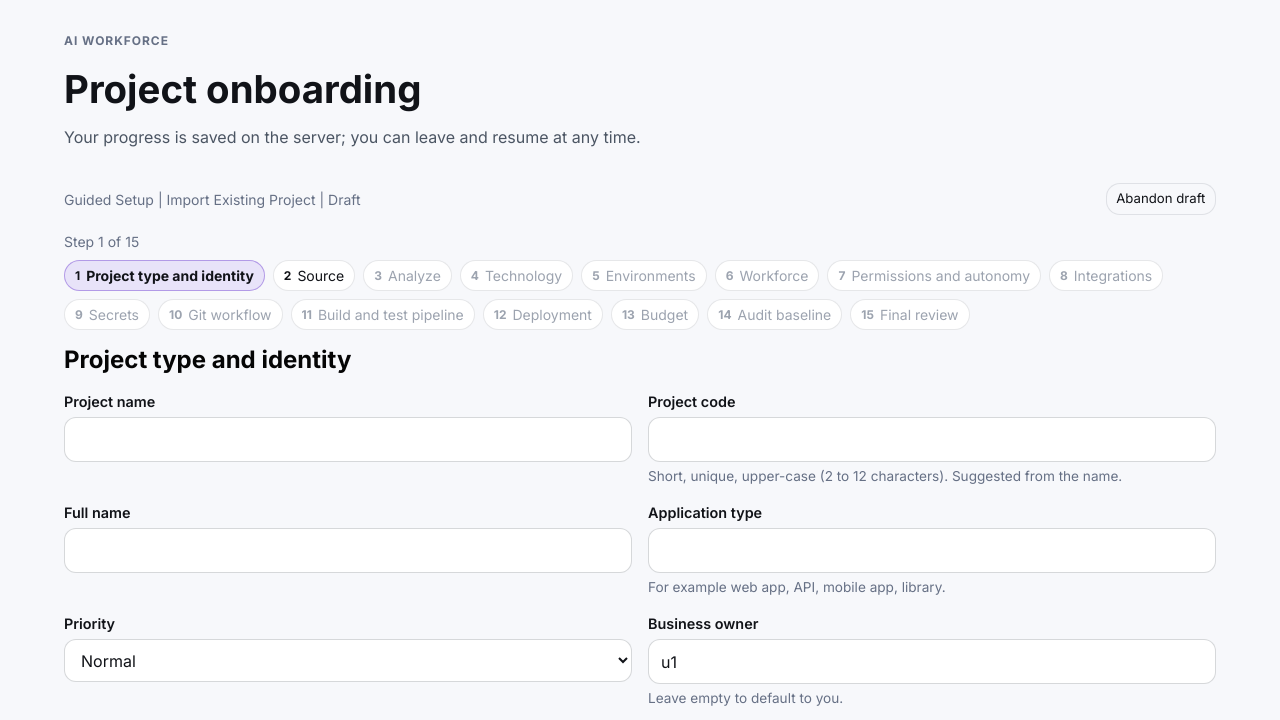
Wizard: identity and source validation › suggests an upper-case code from the name
Type "Money Mind" into the field labelled "Project name" at [348, 439], box [64,417,632,462]
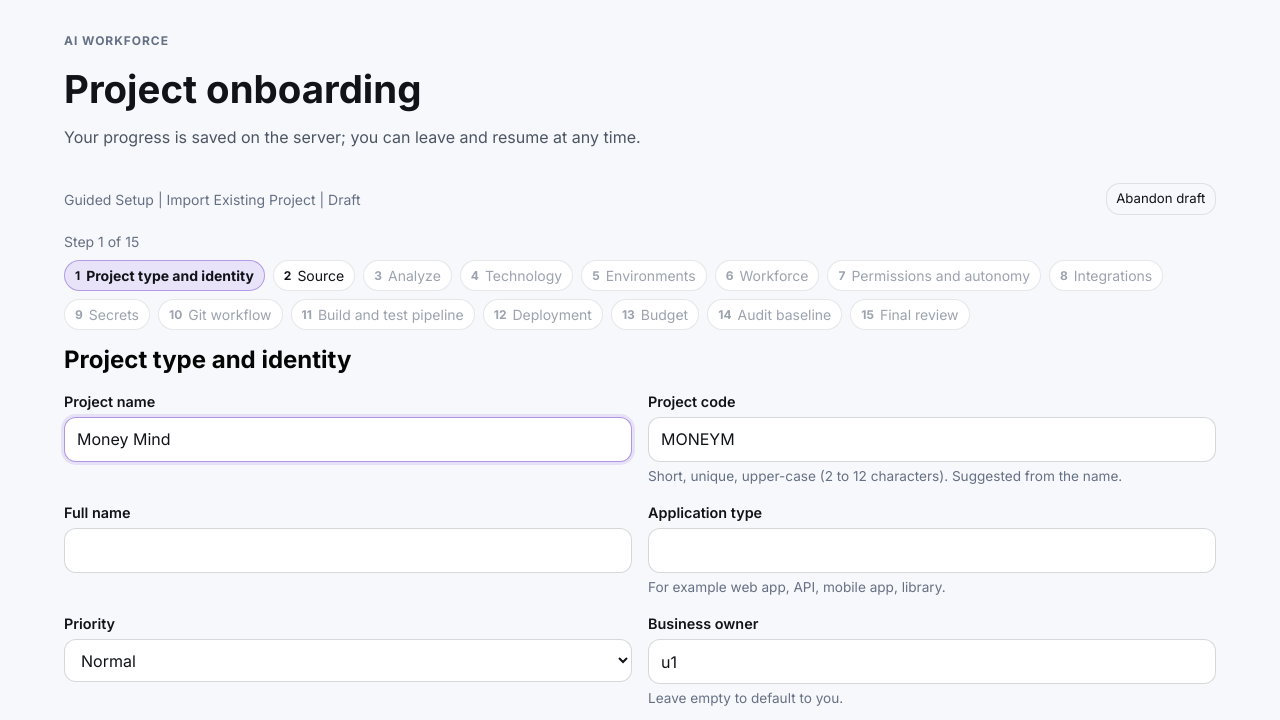
Expected: the field labelled "Project code" holds "MONEYM", [648,417,1216,462]
